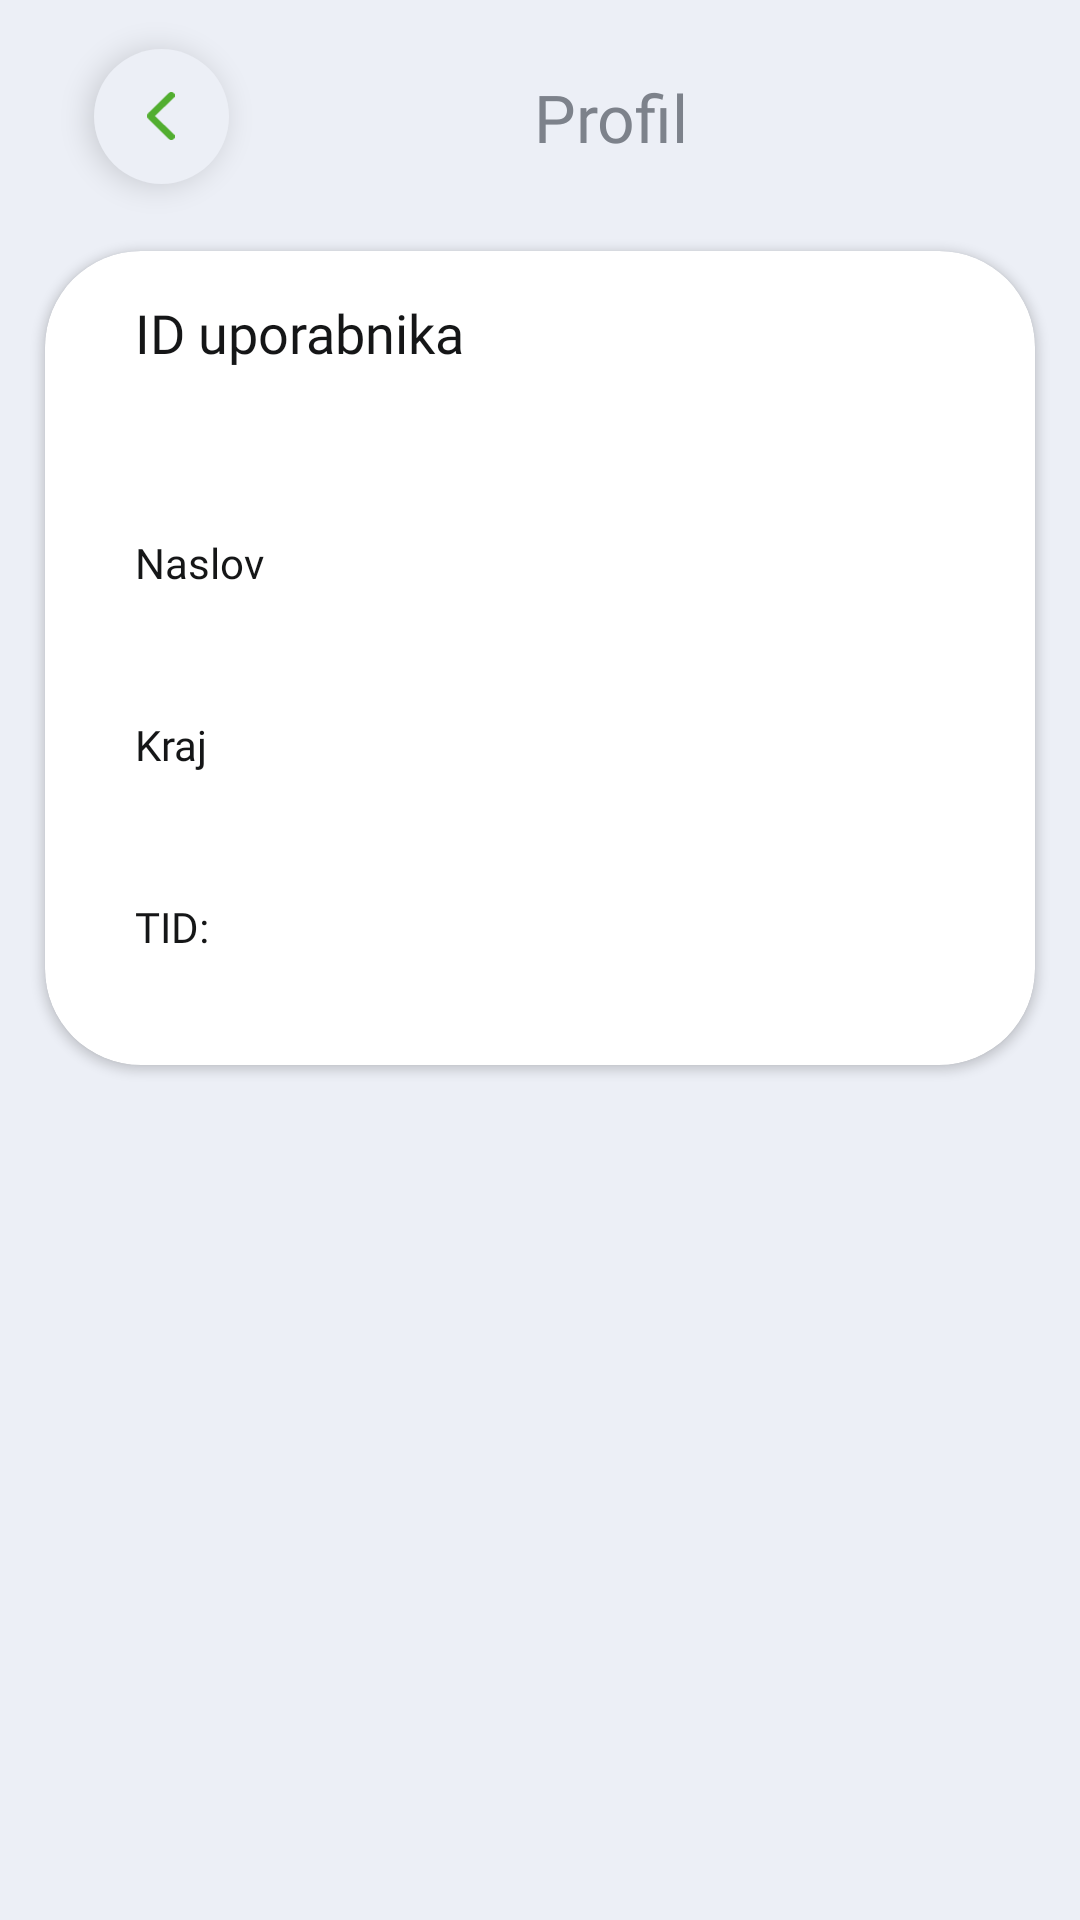

Locate icon controls on the screen. Image size 1080 × 1920, boxes as BBox(x1, y1, x2, y2).
back: BBox(147, 92, 175, 140)
